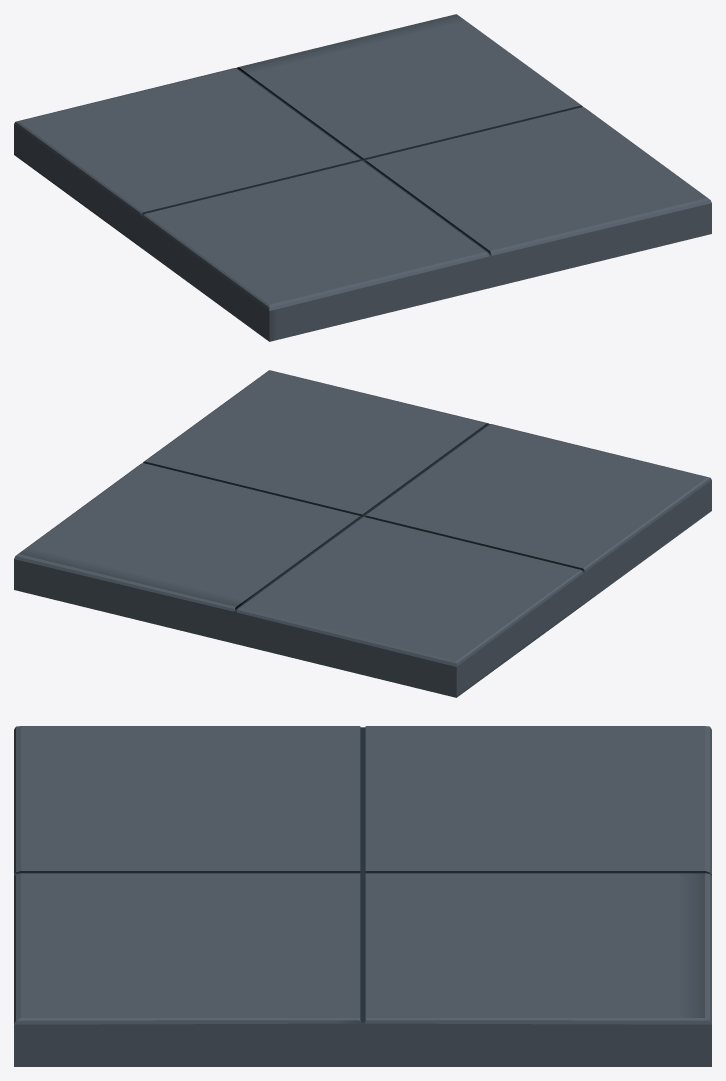
The model's file is Roads, SideWalks.fbx_Sidewalk.fbx.
3 views of the same model, one above another, from view 1: azimuth 30°, elevation 25°; view 2: azimuth 150°, elevation 25°; view 3: azimuth 270°, elevation 25° (orthographic). The views are drawn at different scales.
Parts seen in each view (by area): view 1: Sidewalk; view 2: Sidewalk; view 3: Sidewalk.
Part boxes in pixels (bbox=[...]): Sidewalk: bbox=[14, 14, 711, 341]; Sidewalk: bbox=[14, 370, 711, 697]; Sidewalk: bbox=[14, 726, 711, 1066].
Size of the model in its own units: 1200 by 1200 by 90.
